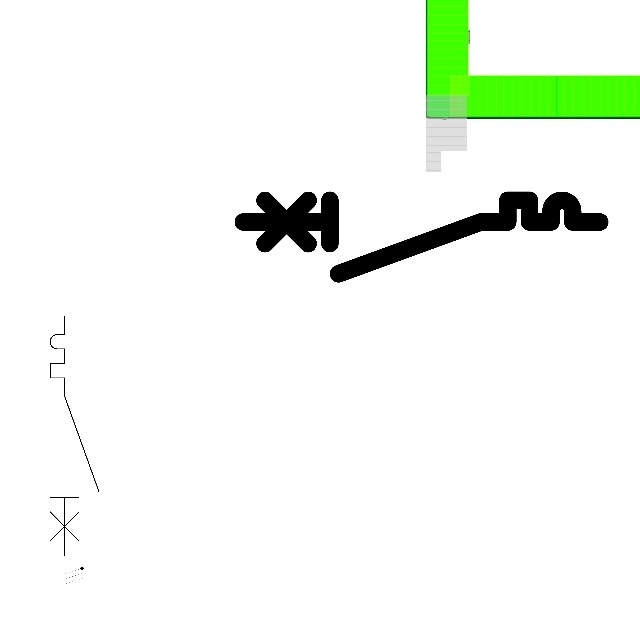interruptor_termomagnetico: (234, 191, 609, 282), (44, 310, 105, 561)
